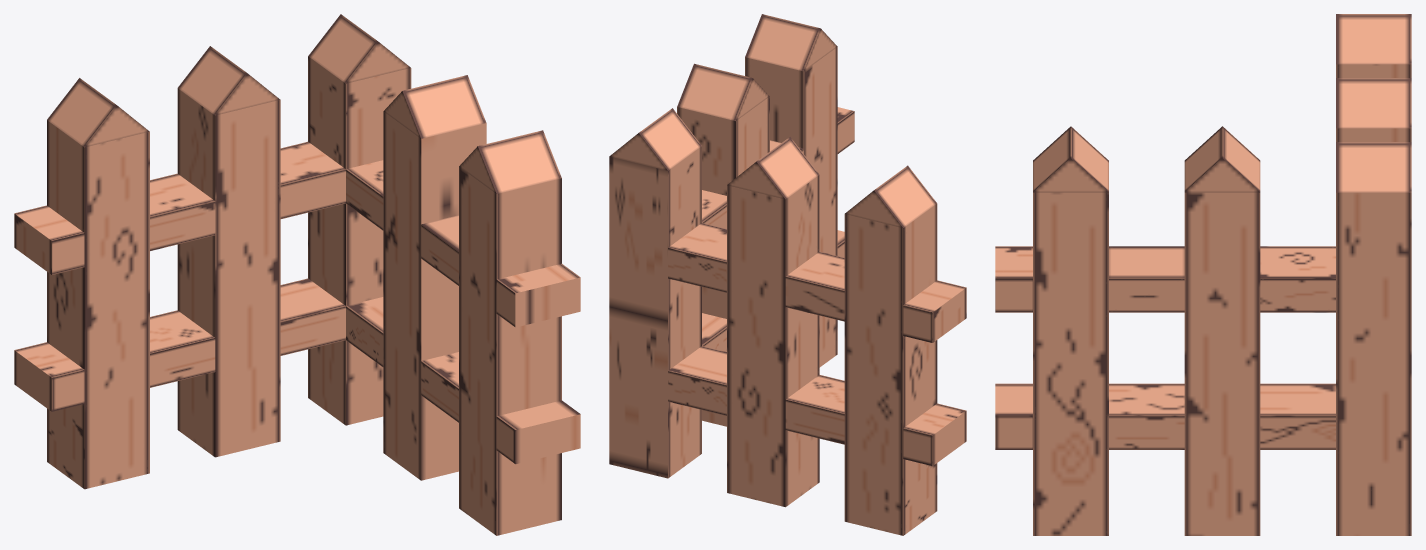
The model's file is Cerca En l.fbx.
3 renders of one model, left to right at view 1: azimuth 30°, elevation 25°; view 2: azimuth 150°, elevation 25°; view 3: azimuth 270°, elevation 25°, orthographic. The views are drawn at different scales.
Visible parts, largest first — view 1: Cerca Curba; view 2: Cerca Curba; view 3: Cerca Curba.
Boxes of the visible parts, x1,y1,x2,y2 form: Cerca Curba: [14, 14, 580, 535]; Cerca Curba: [609, 14, 966, 535]; Cerca Curba: [995, 14, 1411, 535].
Size of the model in its own units: 550 by 550 by 550.
Materials: 1 (1 with a texture image).
